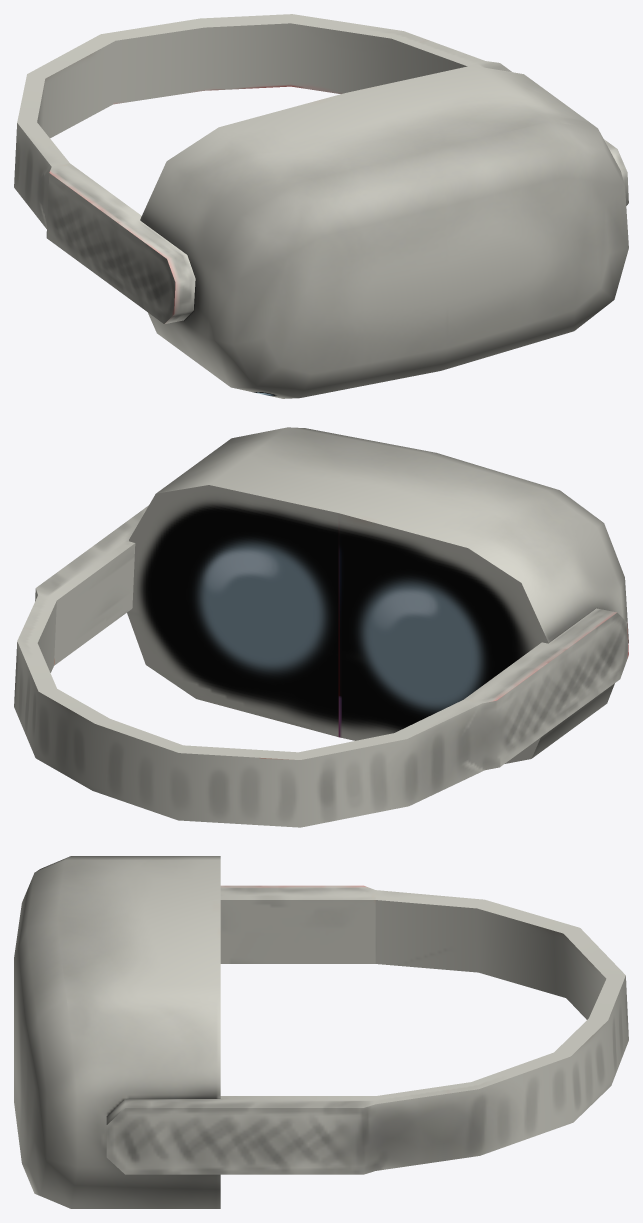
File: Zombie_ArmorHeadset.fbx
3 views of the same model, one above another, from view 1: azimuth 30°, elevation 25°; view 2: azimuth 150°, elevation 25°; view 3: azimuth 270°, elevation 25° (orthographic). The views are drawn at different scales.
Parts seen in each view (by area): view 1: Headset; view 2: Headset; view 3: Headset.
Part boxes in pixels (x1=…): Headset: x1=14, y1=14, x2=628, y2=398; Headset: x1=14, y1=427, x2=628, y2=827; Headset: x1=14, y1=856, x2=628, y2=1208.
Bounding box in the file's own units: 0.5441 × 0.6278 × 0.2496.
